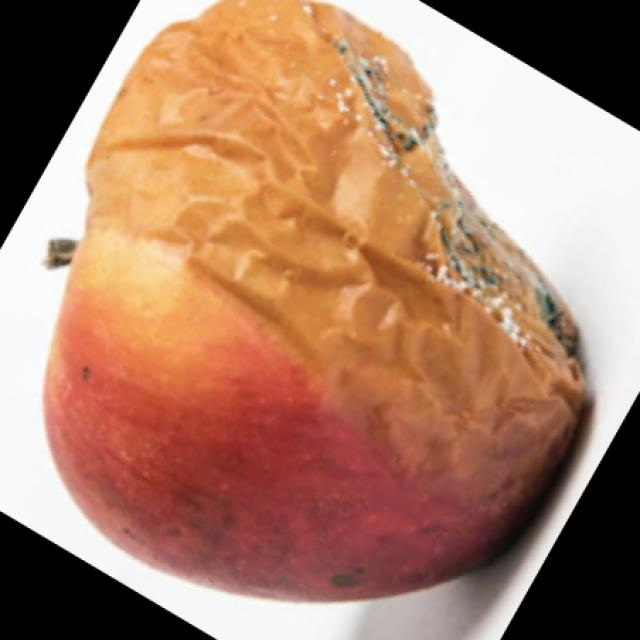Rotten: (32, 0, 598, 609)
